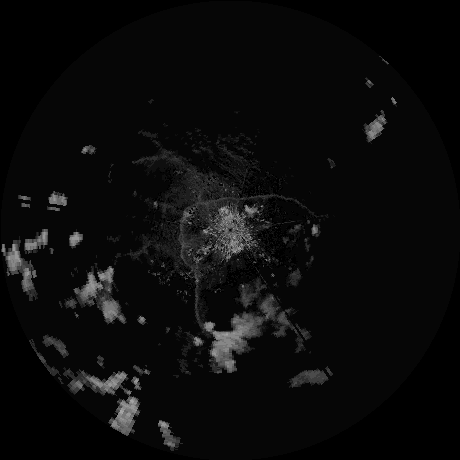frontgust: (177, 211, 207, 331), (187, 193, 307, 216)
